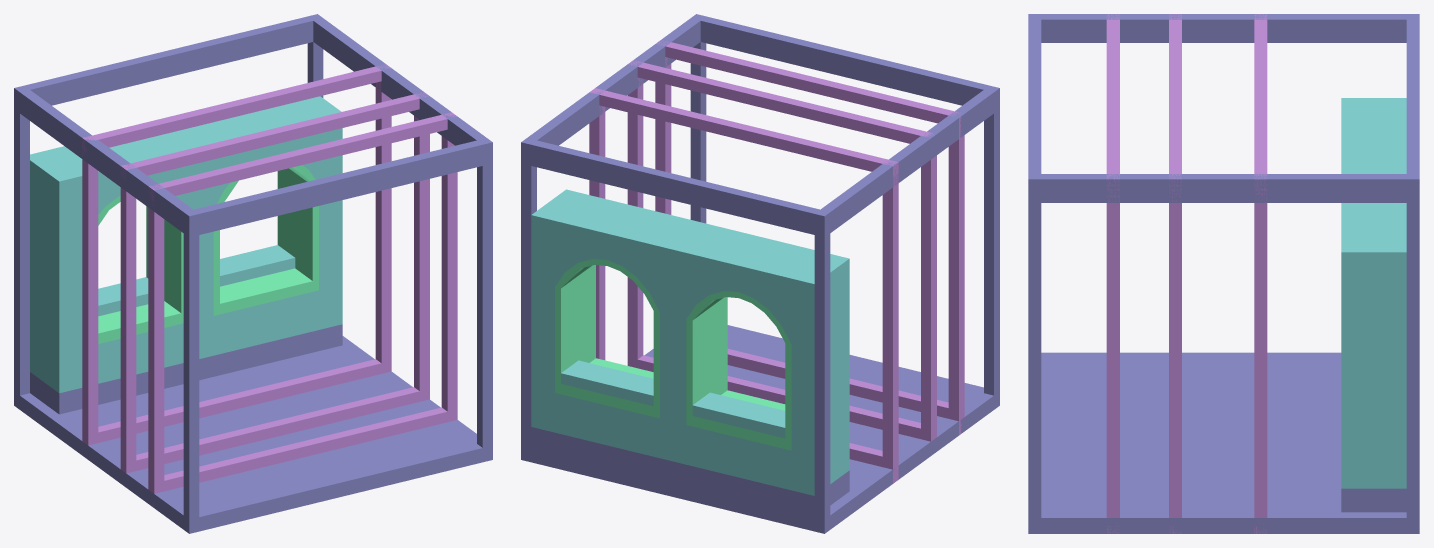
3 views of the same model, side by side, from view 1: azimuth 30°, elevation 25°; view 2: azimuth 150°, elevation 25°; view 3: azimuth 270°, elevation 25° (orthographic). The views are drawn at different scales.
Parts seen in each view (by area): view 1: 物件_26, 物件_12, 物件_2, 物件_33, 物件_32, 物件_31, 物件_29, 物件_25, 物件_22, 物件_19, 物件_20, 物件_27 (+20 smaller); view 2: 物件_12, 物件_2, 物件_26, 物件_32, 物件_33, 物件_31, 物件_30, 物件_17, 物件_19, 物件_23, 物件_22, 物件_25 (+23 smaller); view 3: 物件_26, 物件_2, 物件_34, 物件_31, 物件_12, 物件_28, 物件_27, 物件_24, 物件_18, 物件_21, 物件_32, 物件_33 (+4 smaller).
Boxes of the visible parts, x1=… form: 物件_26: x1=14, y1=336, x2=492, y2=533; 物件_12: x1=30, y1=128, x2=210, y2=393; 物件_2: x1=169, y1=96, x2=342, y2=358; 物件_33: x1=184, y1=138, x2=492, y2=236; 物件_32: x1=14, y1=15, x2=321, y2=109; 物件_31: x1=14, y1=88, x2=199, y2=237; 物件_29: x1=183, y1=209, x2=199, y2=519; 物件_25: x1=149, y1=112, x2=455, y2=200; 物件_22: x1=121, y1=92, x2=428, y2=179; 物件_19: x1=82, y1=66, x2=389, y2=150; 物件_20: x1=120, y1=164, x2=136, y2=487; 物件_27: x1=477, y1=138, x2=492, y2=447; 物件_12: x1=662, y1=223, x2=849, y2=495; 物件_2: x1=531, y1=189, x2=708, y2=463; 物件_26: x1=521, y1=325, x2=999, y2=533; 物件_32: x1=521, y1=138, x2=829, y2=236; 物件_33: x1=692, y1=14, x2=999, y2=105; 物件_31: x1=815, y1=88, x2=999, y2=237; 物件_30: x1=814, y1=209, x2=830, y2=519; 物件_17: x1=882, y1=159, x2=898, y2=483; 物件_19: x1=591, y1=88, x2=898, y2=175; 物件_23: x1=948, y1=111, x2=964, y2=435; 物件_22: x1=631, y1=60, x2=926, y2=143; 物件_25: x1=658, y1=41, x2=961, y2=127; 物件_26: x1=1028, y1=352, x2=1419, y2=533; 物件_2: x1=1341, y1=169, x2=1406, y2=488; 物件_34: x1=1028, y1=174, x2=1419, y2=202; 物件_31: x1=1028, y1=14, x2=1419, y2=42; 物件_12: x1=1341, y1=98, x2=1406, y2=173; 物件_28: x1=1406, y1=174, x2=1419, y2=517; 物件_27: x1=1028, y1=174, x2=1041, y2=517; 物件_24: x1=1106, y1=174, x2=1119, y2=533; 物件_18: x1=1254, y1=174, x2=1267, y2=533; 物件_21: x1=1169, y1=174, x2=1181, y2=533; 物件_32: x1=1406, y1=15, x2=1419, y2=202; 物件_33: x1=1028, y1=14, x2=1041, y2=202.
Bounding box in the file's own units: 48 × 48 × 48.
